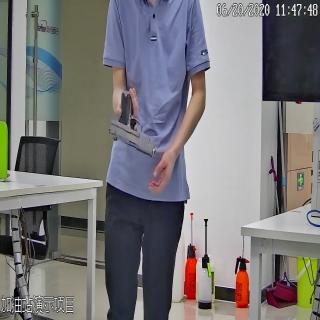gun: (109, 82, 157, 159)
